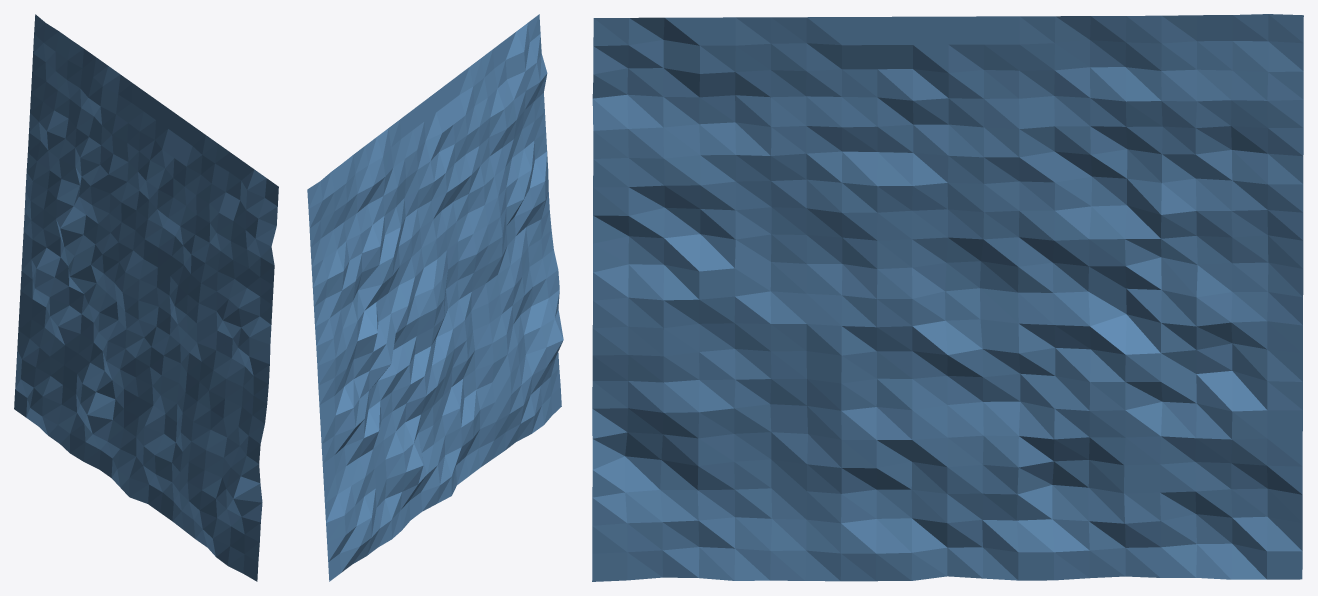
File: node.001_lev3.glb
3 renders of one model, left to right at view 1: azimuth 30°, elevation 25°; view 2: azimuth 150°, elevation 25°; view 3: azimuth 270°, elevation 25°, orthographic. The views are drawn at different scales.
Visible parts, largest first — view 1: node.001_lev3; view 2: node.001_lev3; view 3: node.001_lev3.
Boxes of the visible parts, left/top/right/bottom form: node.001_lev3: left=14, top=14, right=278, bottom=581; node.001_lev3: left=307, top=14, right=563, bottom=581; node.001_lev3: left=592, top=14, right=1303, bottom=581.
Size of the model in its own units: 10.54 by 105 by 116.
